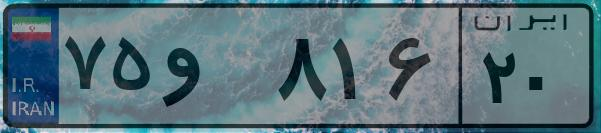0: (525, 38, 570, 115)
1: (330, 28, 385, 110)
2: (475, 38, 525, 113)
5: (110, 28, 158, 98)
6: (385, 28, 445, 110)
7: (57, 26, 110, 100)
8: (270, 28, 330, 110)
و: (158, 20, 270, 120)
